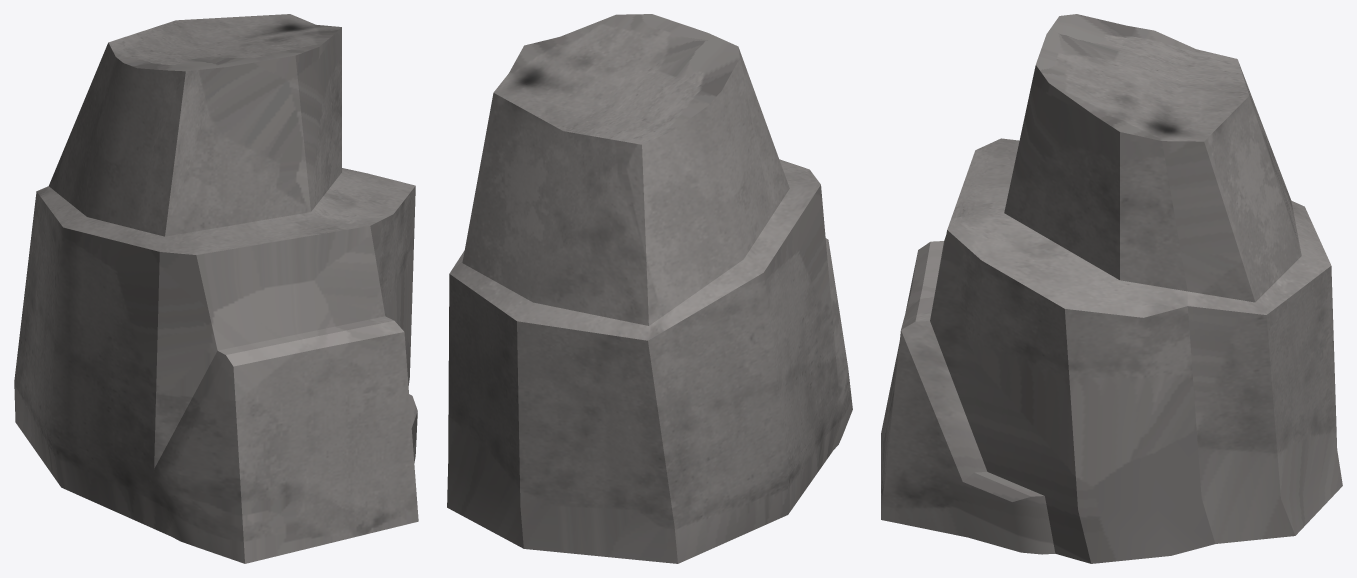
The model's file is rocher 1 .fbx.
The picture shows the model from 3 angles, left to right: view 1: azimuth 30°, elevation 25°; view 2: azimuth 150°, elevation 25°; view 3: azimuth 270°, elevation 25°; orthographic projection. The views are drawn at different scales.
Visible parts, largest first — view 1: rocher 1; view 2: rocher 1; view 3: rocher 1.
Boxes of the visible parts, x1,y1,x2,y2 form: rocher 1: (14,14,418,563); rocher 1: (447,14,852,563); rocher 1: (881,14,1342,563).
Size of the model in its own units: 3060 by 3787 by 3671.
